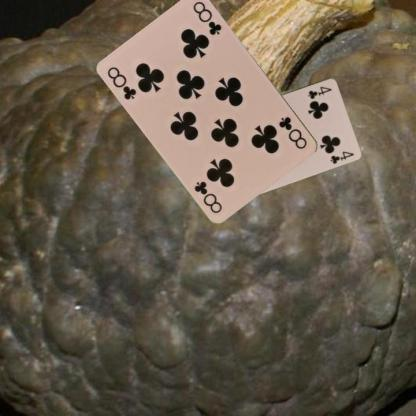4c: (306, 84, 333, 100)
8c: (276, 114, 309, 151), (105, 64, 138, 101)
